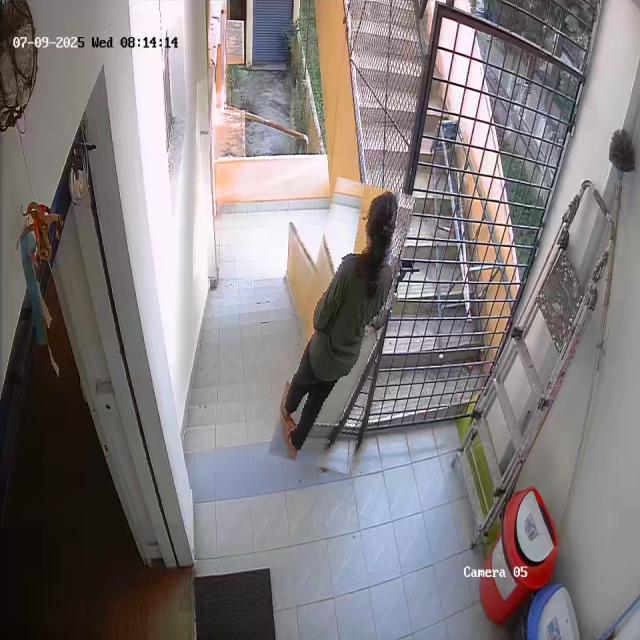person: (285, 180, 400, 472)
